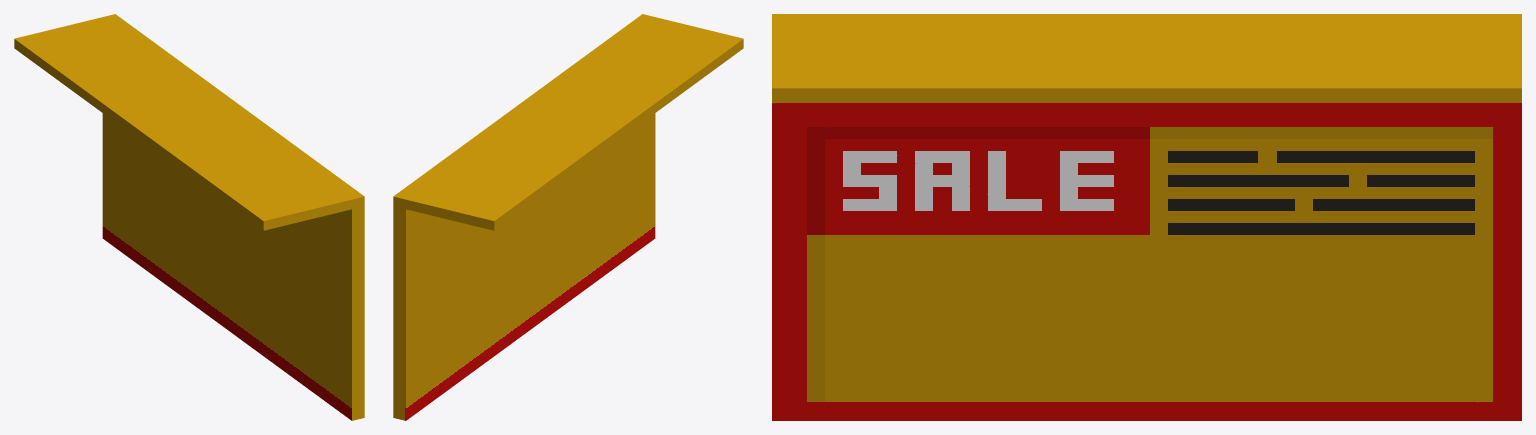
File: sale_sign.glb
The picture shows the model from 3 angles, left to right: view 1: azimuth 30°, elevation 25°; view 2: azimuth 150°, elevation 25°; view 3: azimuth 270°, elevation 25°; orthographic projection. The views are drawn at different scales.
Visible parts, largest first — view 1: Sale Sign; view 2: Sale Sign; view 3: Sale Sign.
Boxes of the visible parts, x1,y1,x2,y2 form: Sale Sign: (14, 14, 364, 420); Sale Sign: (393, 14, 743, 420); Sale Sign: (772, 14, 1521, 420).
Bounding box in the file's own units: 0.0685 × 0.1433 × 0.2927.
1 material, 1 textured.
